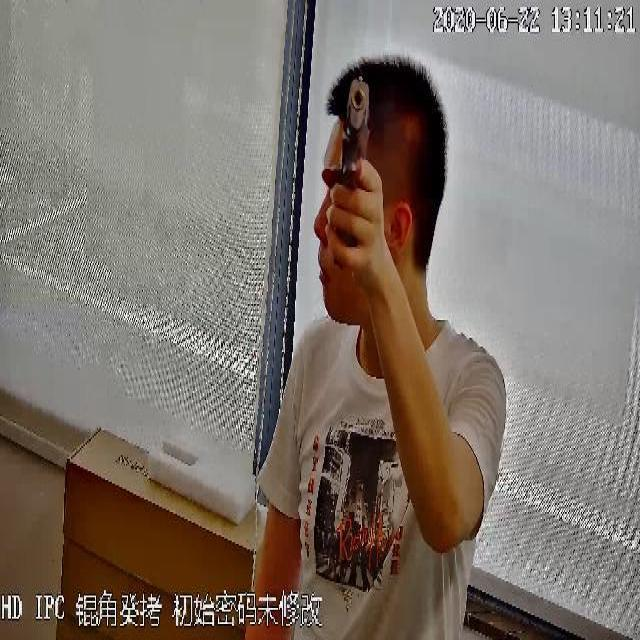pistol: (342, 75, 372, 234)
